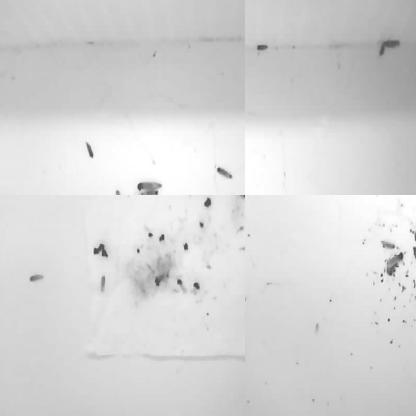PtecticusTenebrifer: (386, 252, 404, 270), (137, 181, 163, 191), (382, 39, 401, 51), (216, 167, 233, 180), (380, 239, 396, 251), (99, 273, 107, 293), (30, 272, 43, 284), (86, 142, 94, 158), (256, 43, 270, 52), (345, 195, 365, 201), (140, 190, 162, 195), (245, 93, 250, 115), (245, 167, 252, 182), (245, 47, 251, 63), (245, 343, 250, 362), (245, 51, 254, 60), (412, 246, 416, 265), (115, 187, 124, 195), (412, 225, 416, 241), (245, 195, 256, 200)
